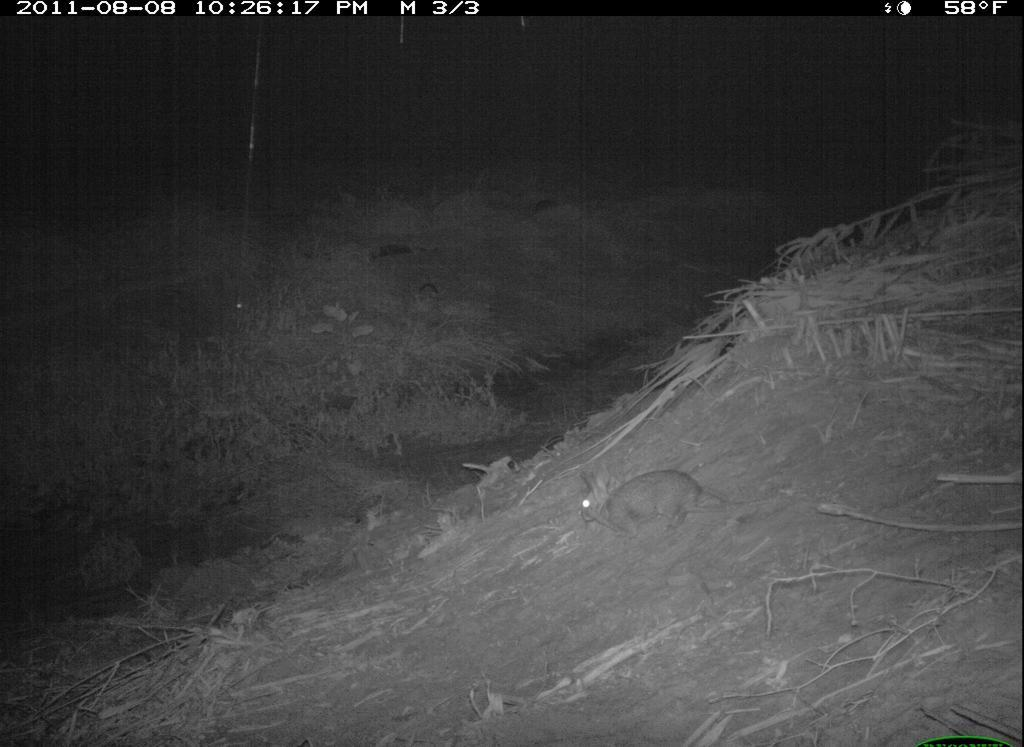rabbit: (573, 450, 748, 552)
